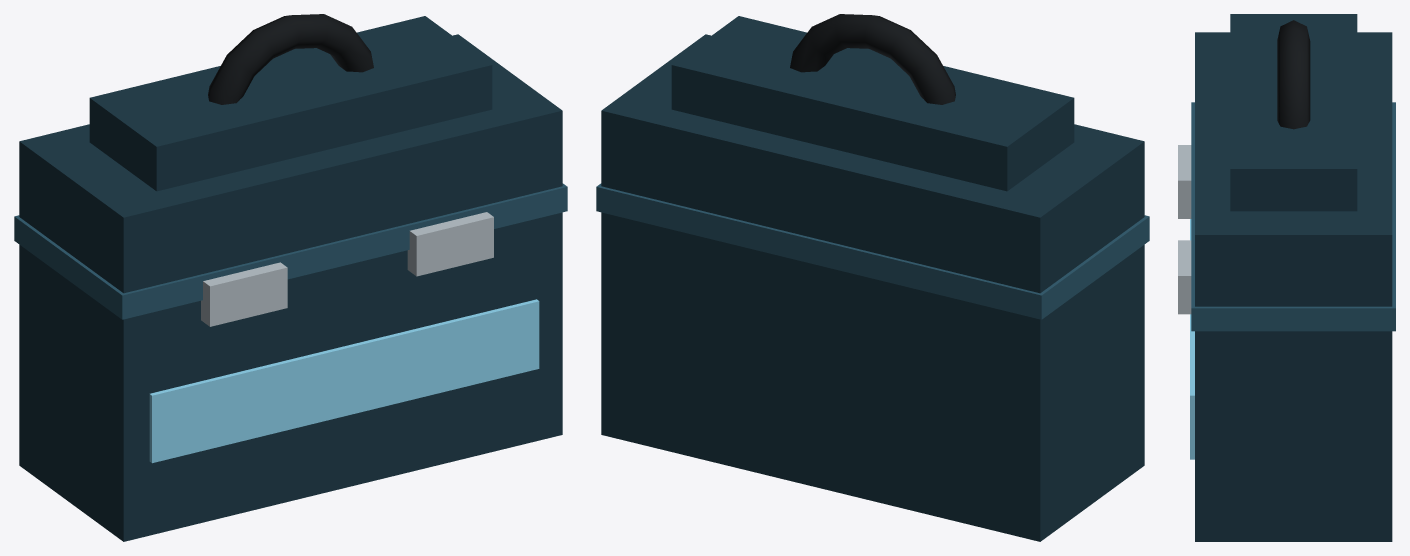
The model's file is kit-case.glb.
3 renders of one model, left to right at view 1: azimuth 30°, elevation 25°; view 2: azimuth 150°, elevation 25°; view 3: azimuth 270°, elevation 25°, orthographic. The views are drawn at different scales.
Visible parts, largest first — view 1: kit-case; view 2: kit-case; view 3: kit-case.
Part boxes in pixels (<box>): kit-case: <box>14,14,567,541</box>; kit-case: <box>596,14,1149,541</box>; kit-case: <box>1178,14,1395,541</box>.
Bounding box in the file's own units: 0.345 × 0.322 × 0.1545.
